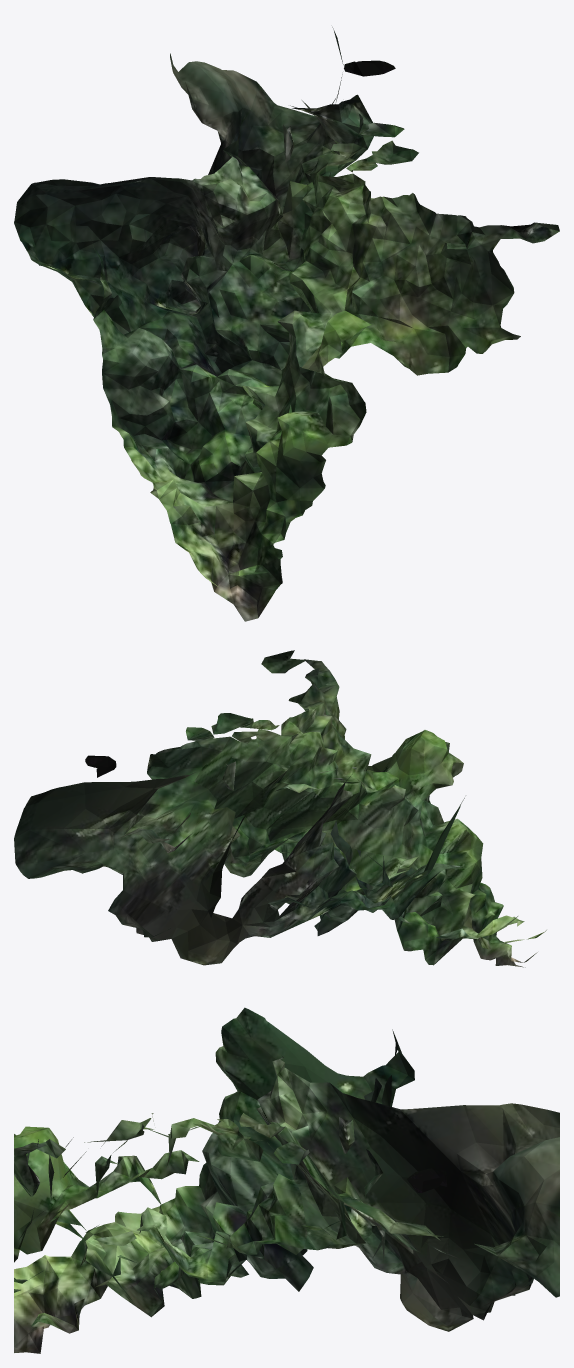
The picture shows the model from 3 angles, top to bottom: view 1: azimuth 30°, elevation 25°; view 2: azimuth 150°, elevation 25°; view 3: azimuth 270°, elevation 25°; orthographic projection. The views are drawn at different scales.
Size of the model in its own units: 23.08 by 17.42 by 26.11.
4 materials, 4 textured.
